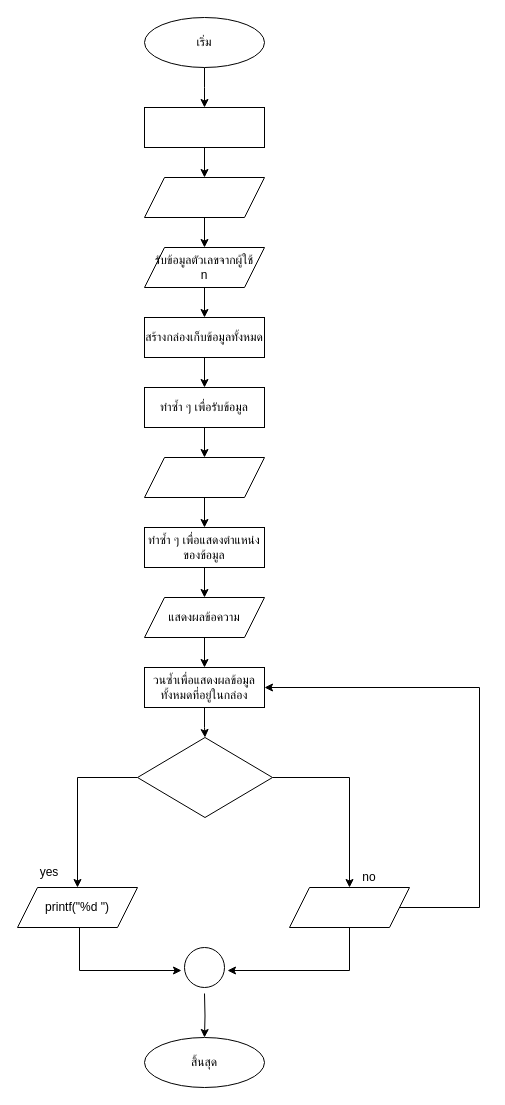
Some shapes in this 505 by 1105 pixel diagram are drawn without their labels. Here are the shapes that lost their labels. From the top down, the centre of each, then its label:
pixel 204 127: รับค่า n
pixel 204 197: การแสดงผลข้อความ n
pixel 204 477: การแสดงข้อความขึ้นบรรทัดใหม่
pixel 204 777: if (i == 0 || i == n - 1) การตัดสินใจ
pixel 349 907: printf("# ")
